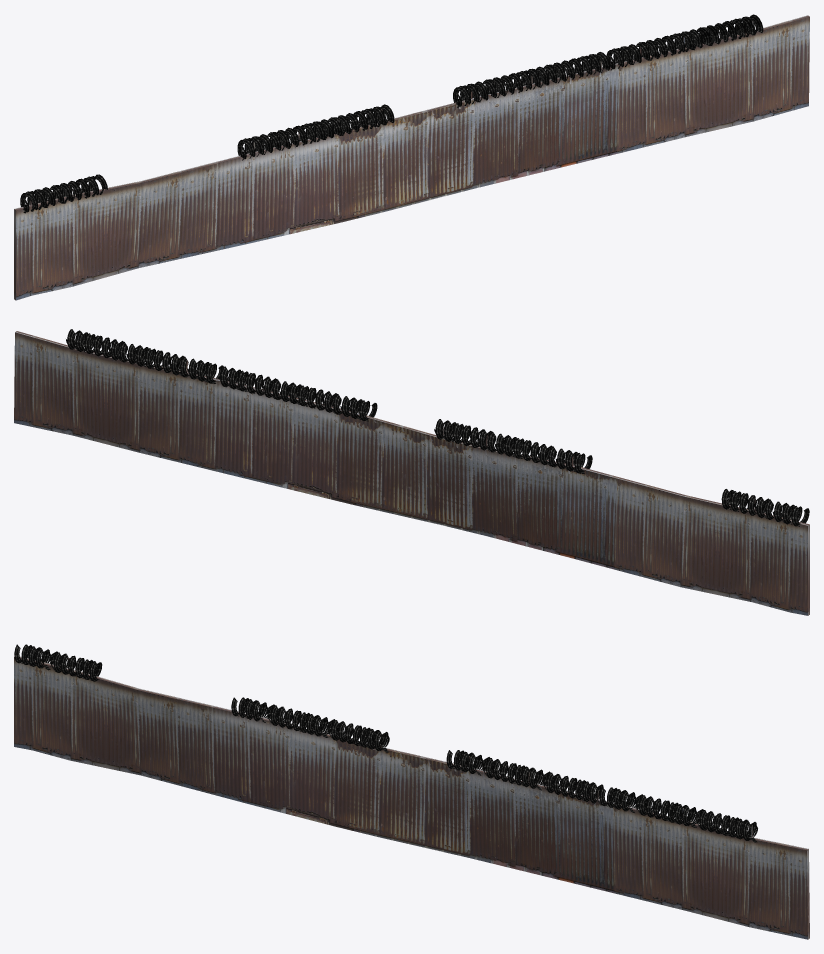
The model's file is MetalFence.FBX.
3 renders of one model, top to bottom at view 1: azimuth 30°, elevation 25°; view 2: azimuth 150°, elevation 25°; view 3: azimuth 330°, elevation 25°, orthographic.
Visible parts, largest first — view 1: Box002, Wire_Ground; view 2: Box002, Wire_Ground; view 3: Box002, Wire_Ground.
Part boxes in pixels (left/top/right/bottom): Box002: left=14, top=15, right=809, bottom=300; Wire_Ground: left=20, top=14, right=763, bottom=213; Box002: left=14, top=331, right=809, bottom=615; Wire_Ground: left=66, top=329, right=809, bottom=526; Box002: left=14, top=649, right=809, bottom=939; Wire_Ground: left=14, top=644, right=757, bottom=842.
Size of the model in its own units: 140 by 17.67 by 3.28.
2 materials, 2 textured.
